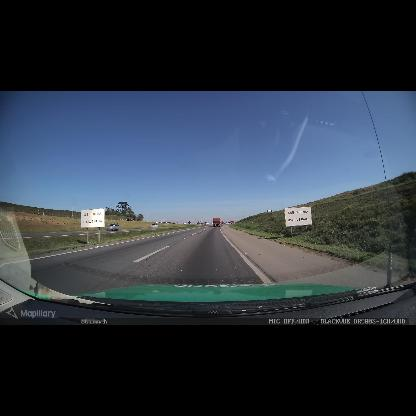I-SA: (284, 207, 312, 227), (81, 208, 105, 228)
